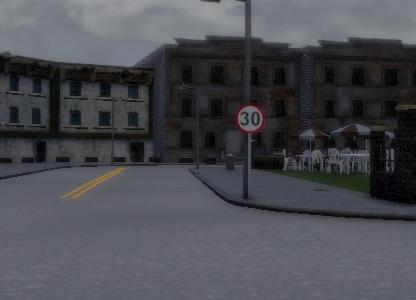Speed_30: (236, 102, 266, 137)
